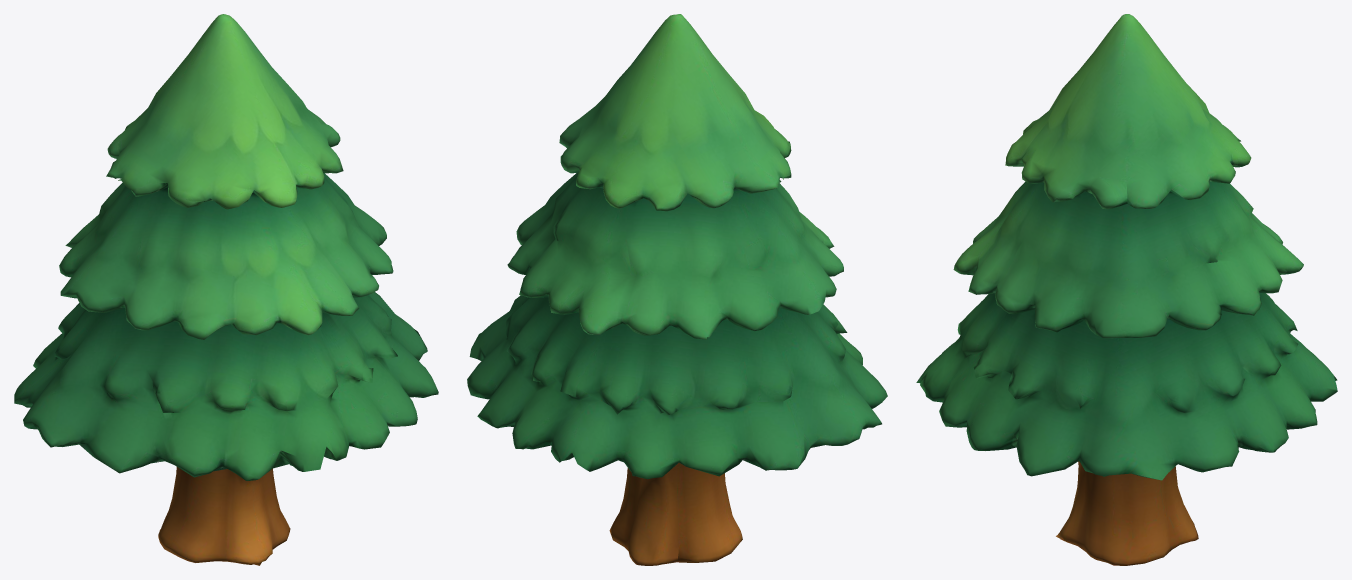
The model's file is tree-pine.glb.
3 views of the same model, side by side, from view 1: azimuth 30°, elevation 25°; view 2: azimuth 150°, elevation 25°; view 3: azimuth 270°, elevation 25° (orthographic).
Parts seen in each view (by area): view 1: tripo_node_b809b9a4-fe6a-4c17-bdb8-afd9d0578403; view 2: tripo_node_b809b9a4-fe6a-4c17-bdb8-afd9d0578403; view 3: tripo_node_b809b9a4-fe6a-4c17-bdb8-afd9d0578403.
Part boxes in pixels (box(x1,y1,x2,y2)): tripo_node_b809b9a4-fe6a-4c17-bdb8-afd9d0578403: box(14, 14, 438, 565); tripo_node_b809b9a4-fe6a-4c17-bdb8-afd9d0578403: box(467, 14, 887, 565); tripo_node_b809b9a4-fe6a-4c17-bdb8-afd9d0578403: box(916, 14, 1337, 565).
Bounding box in the file's own units: 0.7701 × 0.9992 × 0.7303.
1 material, 1 textured.
